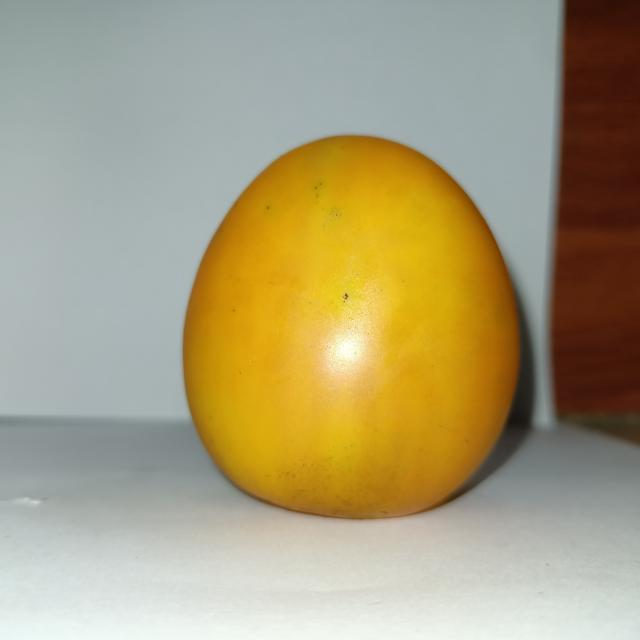Red: (180, 132, 522, 520)
